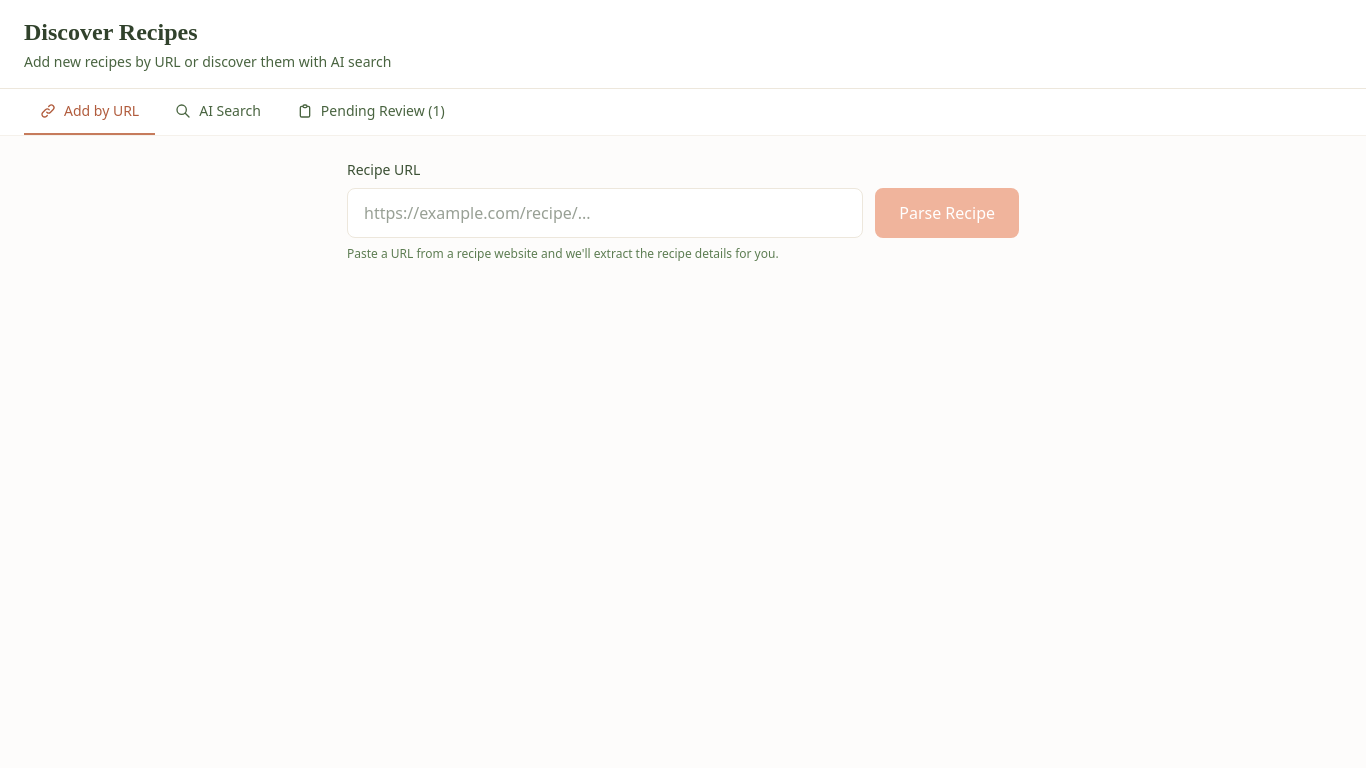
Test case: DiscoverPage › Recipe Actions › opens edit modal
Click the button "Pending Review (1)".
click(371, 112)  # box x1=281 y1=89 x2=461 y2=135
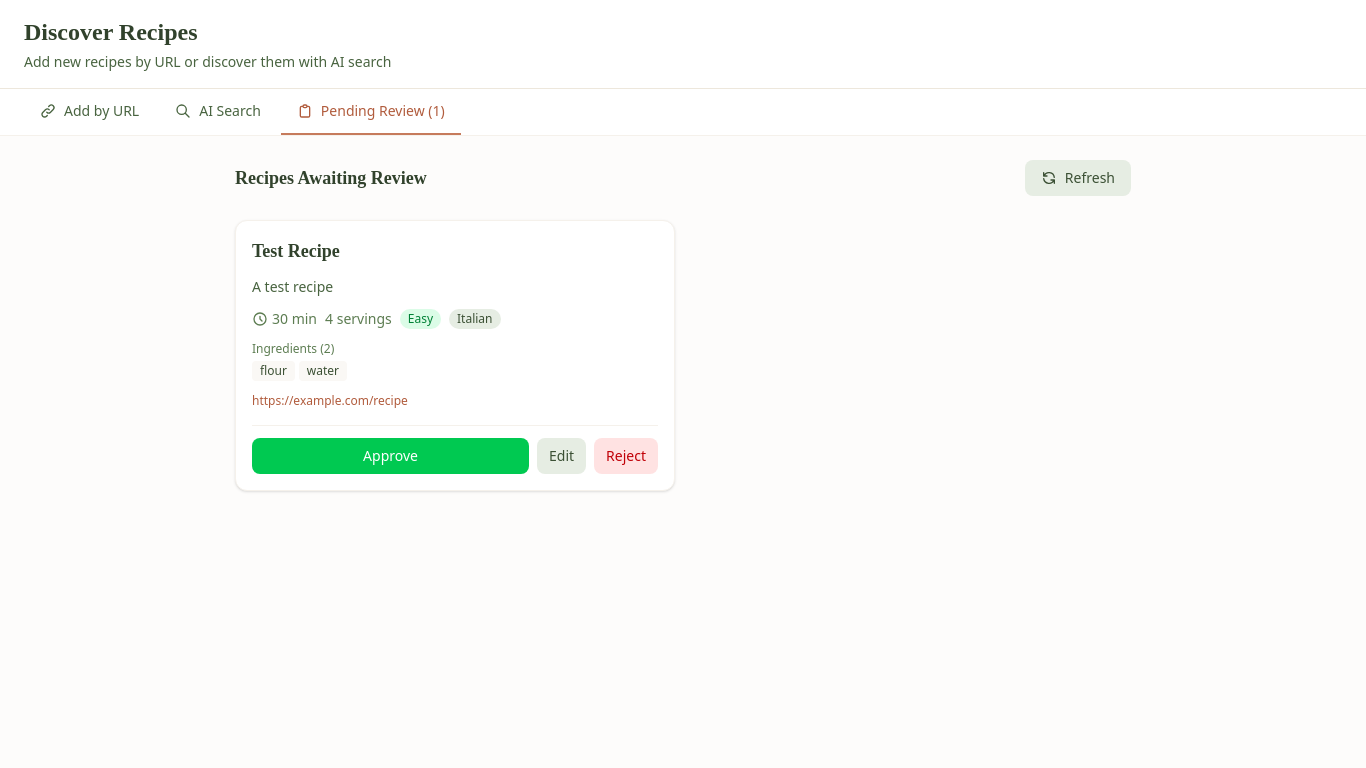
Expected: the heading "Test Recipe" is shown, x1=252 y1=237 x2=340 y2=265
Click the button "Edit".
click(562, 456)  # box x1=537 y1=438 x2=586 y2=474
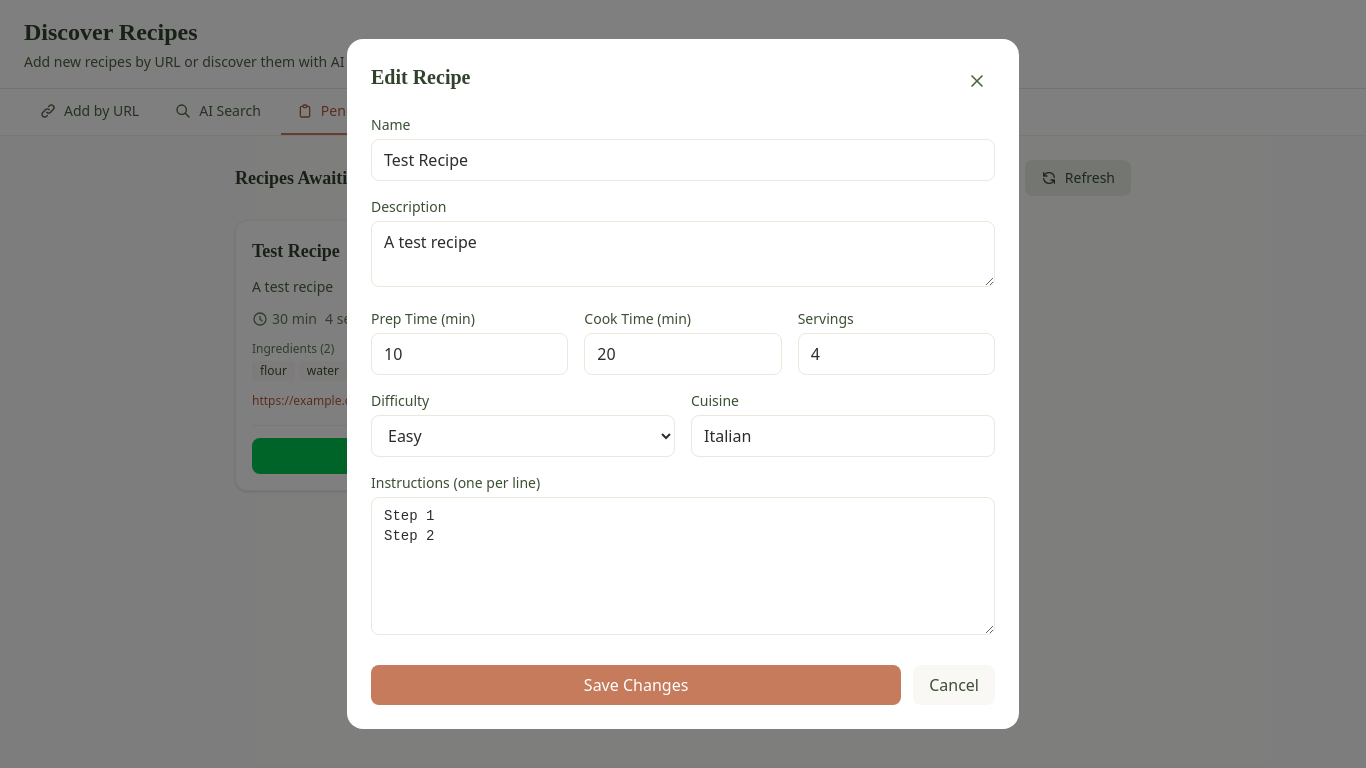
Expected: the heading "Edit Recipe" is shown, x1=371 y1=63 x2=470 y2=91
